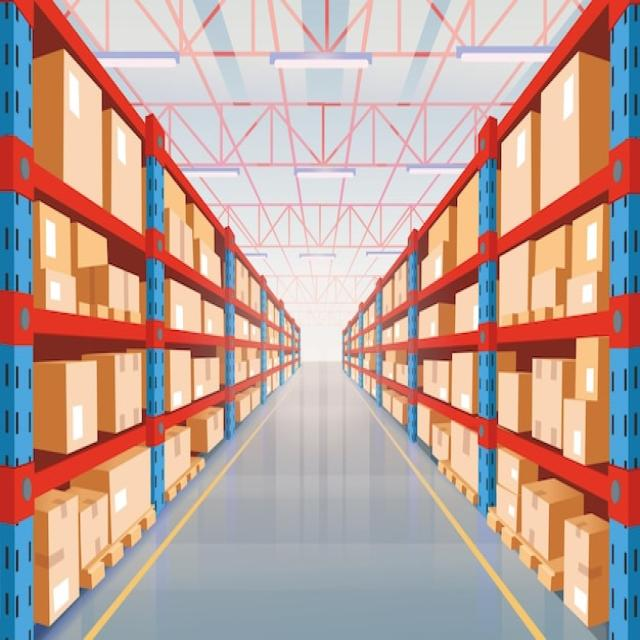box: (33, 44, 111, 208), (536, 68, 614, 211), (40, 351, 100, 463), (33, 489, 80, 630), (562, 510, 612, 636), (493, 116, 540, 238), (101, 110, 147, 229), (100, 449, 160, 536), (526, 471, 578, 560), (100, 348, 148, 433), (88, 245, 147, 313), (528, 355, 564, 455), (561, 264, 616, 325), (30, 201, 75, 274), (575, 208, 618, 280), (448, 414, 483, 501), (75, 480, 110, 566), (562, 399, 606, 467), (454, 173, 485, 265), (492, 362, 524, 443), (166, 276, 206, 340), (420, 197, 456, 268), (498, 243, 535, 310), (162, 426, 201, 487), (453, 347, 483, 424), (167, 204, 200, 272), (575, 332, 606, 404), (492, 477, 526, 541), (417, 352, 453, 412), (39, 264, 80, 316), (72, 220, 113, 272), (445, 285, 482, 337), (164, 345, 193, 411), (495, 446, 532, 496), (192, 408, 228, 458), (198, 226, 228, 285), (187, 193, 221, 245), (166, 163, 194, 226), (536, 232, 574, 278), (414, 302, 452, 347), (418, 247, 451, 298), (533, 266, 565, 314), (202, 296, 230, 350), (193, 357, 226, 402), (431, 410, 450, 467), (414, 396, 435, 446)
